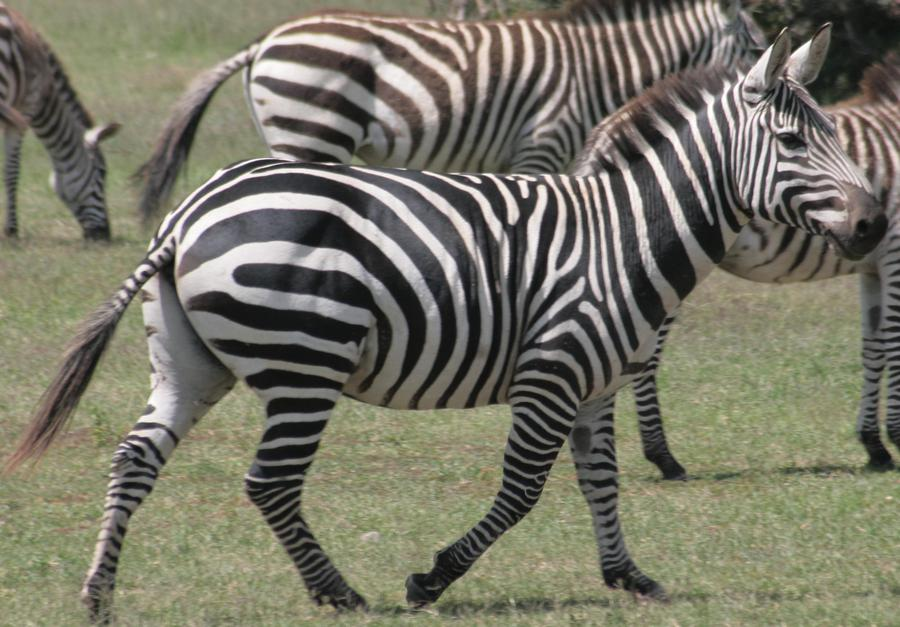zebra_plains: (215, 145, 648, 427)
